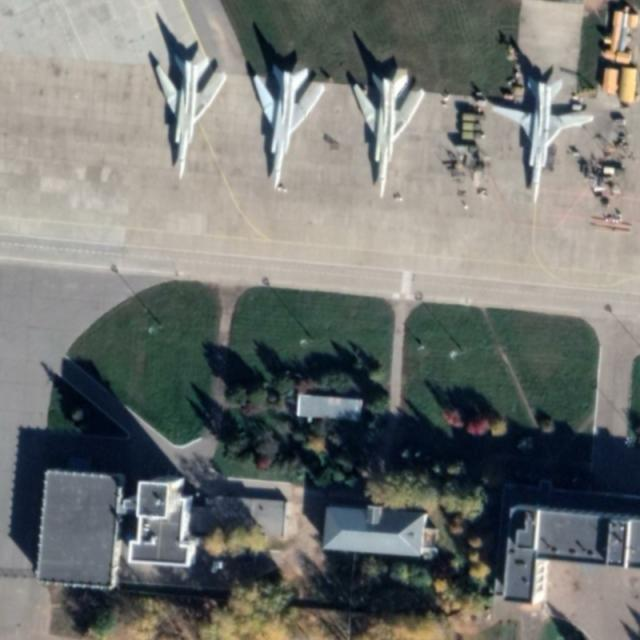fighter jet: (484, 60, 583, 183), (343, 56, 422, 194), (140, 38, 218, 154), (248, 52, 312, 187)
